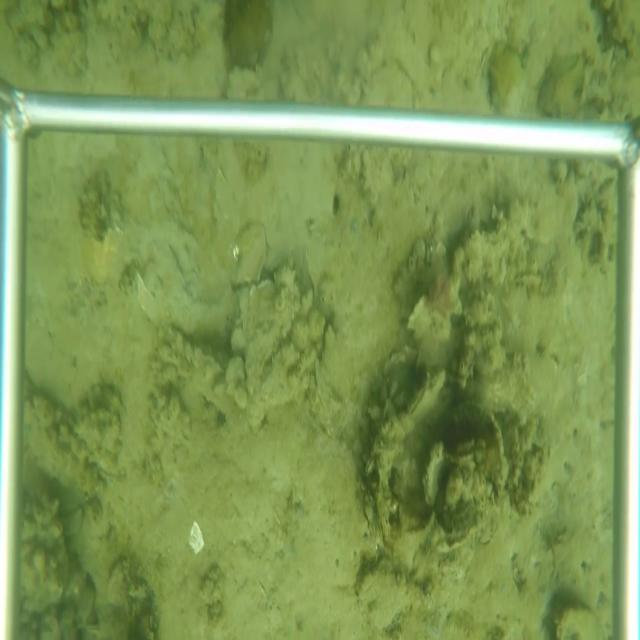Oyster-Closed: (407, 369, 447, 423)
Oyster-Indeterminate: (356, 59, 420, 108), (551, 599, 601, 639)
